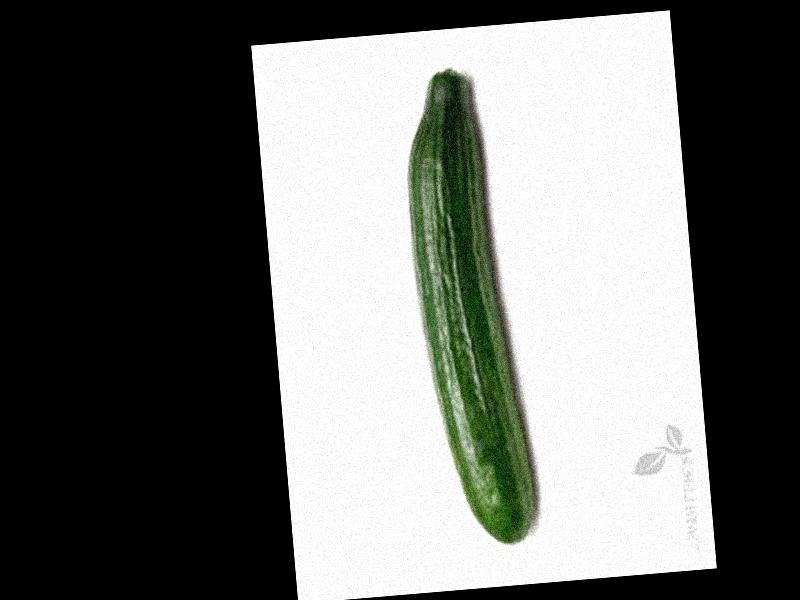Cucumber: (398, 64, 538, 552)
